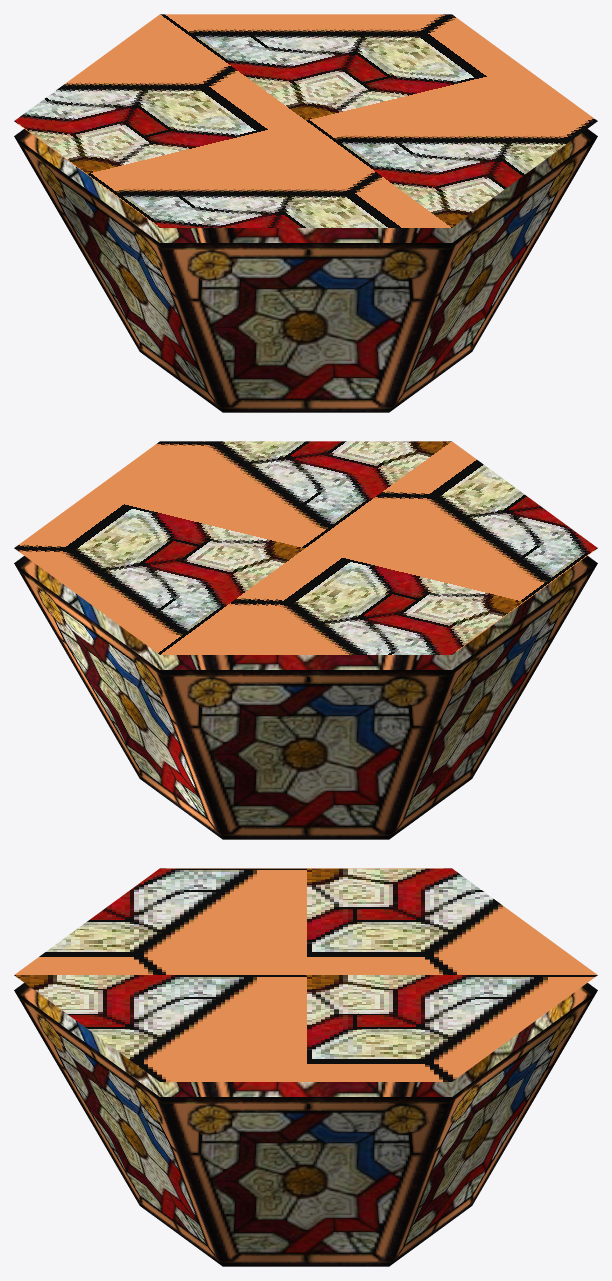
Rendered from Glass.obj.
3 views of the same model, one above another, from view 1: azimuth 30°, elevation 25°; view 2: azimuth 150°, elevation 25°; view 3: azimuth 270°, elevation 25° (orthographic).
Bounding box in the file's own units: 42.41 × 21.35 × 48.98.
2 materials, 2 textured.
